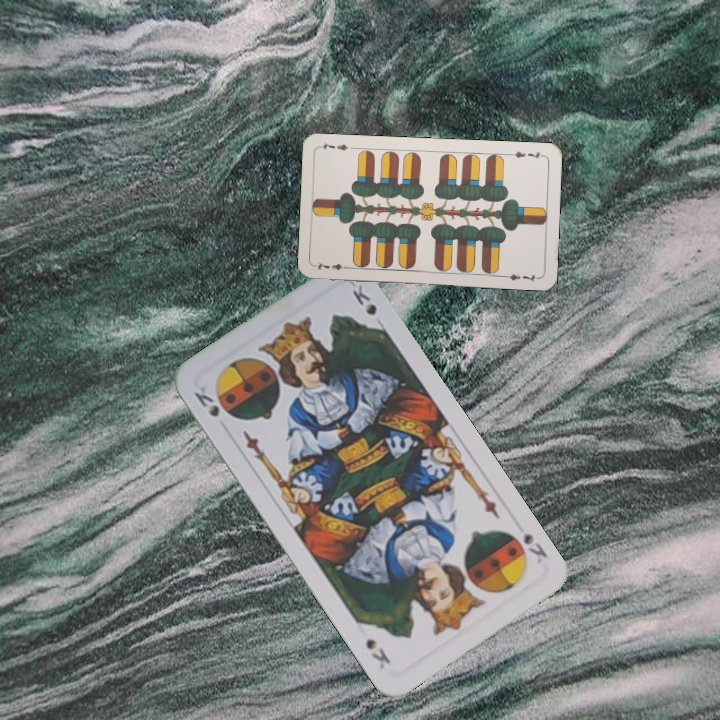E7: (505, 147, 546, 162), (312, 258, 353, 272)
SK: (190, 382, 234, 422), (519, 528, 550, 566)
